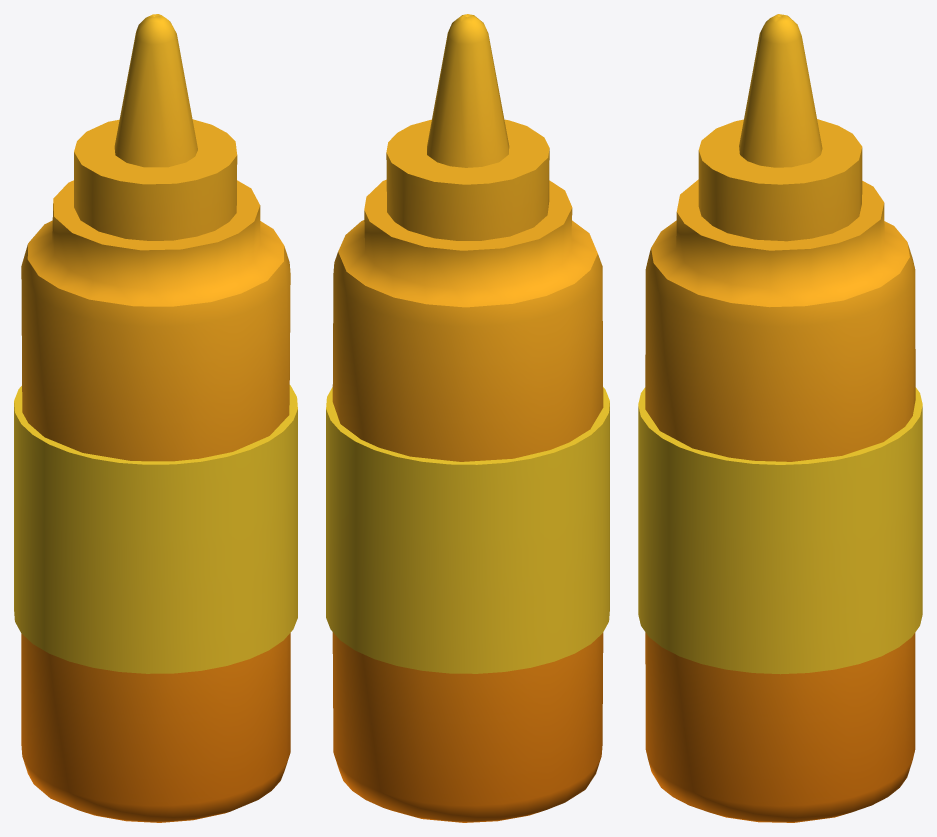
The model's file is dressing_golf.fbx.
3 views of the same model, side by side, from view 1: azimuth 30°, elevation 25°; view 2: azimuth 150°, elevation 25°; view 3: azimuth 270°, elevation 25° (orthographic).
Visible parts, largest first — view 1: dressing_golf; view 2: dressing_golf; view 3: dressing_golf.
Part boxes in pixels (box(x1,y1,x2,y2)): dressing_golf: box(14, 14, 297, 822); dressing_golf: box(326, 14, 609, 822); dressing_golf: box(638, 14, 922, 822).
Bounding box in the file's own units: 42.68 × 126 × 42.68.
